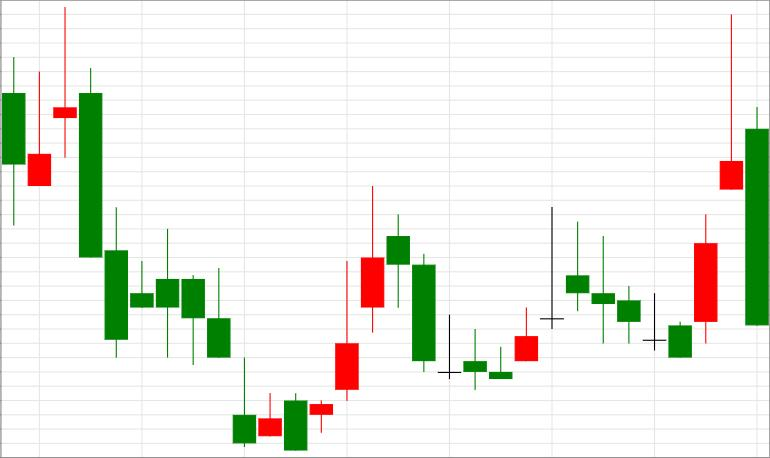inverse_hammer_rise: (79, 68, 256, 447)
